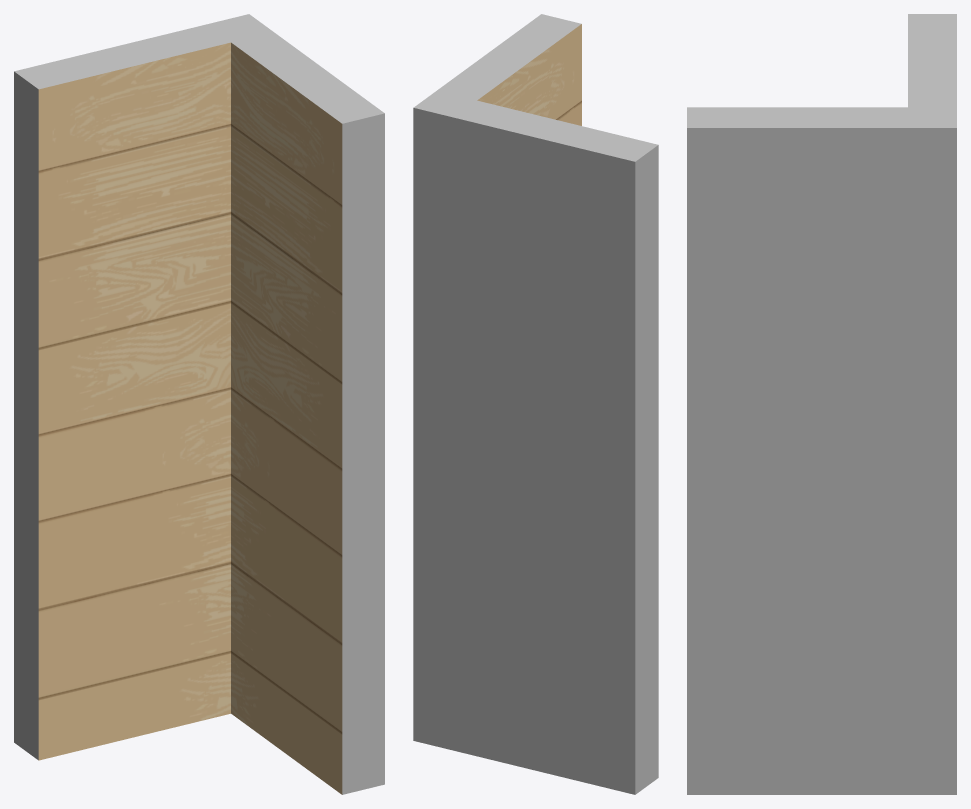
Rendered from Wall Standard 1x3 Corner.fbx.
3 renders of one model, left to right at view 1: azimuth 30°, elevation 25°; view 2: azimuth 150°, elevation 25°; view 3: azimuth 270°, elevation 25°, orthographic. The views are drawn at different scales.
Visible parts, largest first — view 1: Wall Standard 1x3 (Corner); view 2: Wall Standard 1x3 (Corner); view 3: Wall Standard 1x3 (Corner).
Part boxes in pixels (x1=…): Wall Standard 1x3 (Corner): x1=14, y1=14, x2=384, y2=794; Wall Standard 1x3 (Corner): x1=413, y1=14, x2=658, y2=794; Wall Standard 1x3 (Corner): x1=687, y1=14, x2=956, y2=794.
Size of the model in its own units: 110 by 300 by 110.
